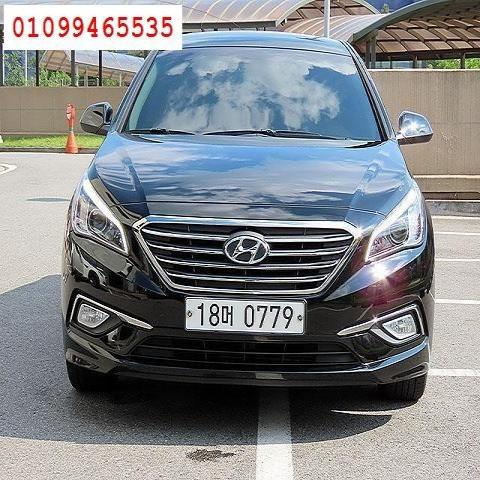LP: (182, 292, 308, 346)
